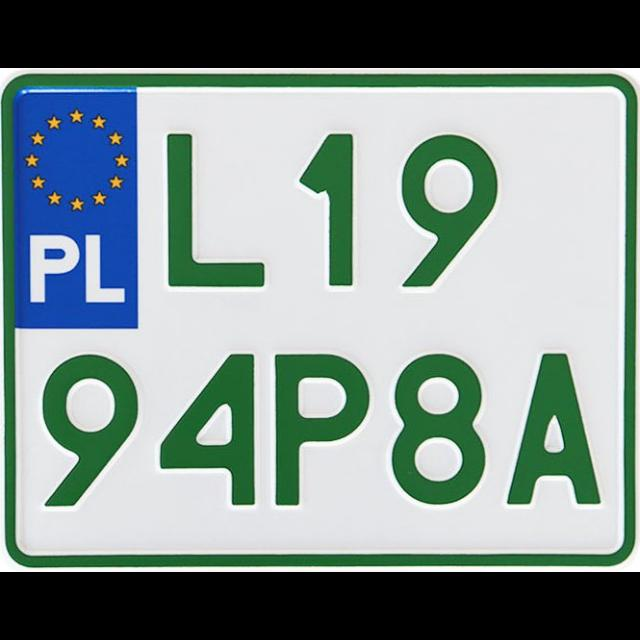pl_license_plate: (1, 72, 639, 566)
